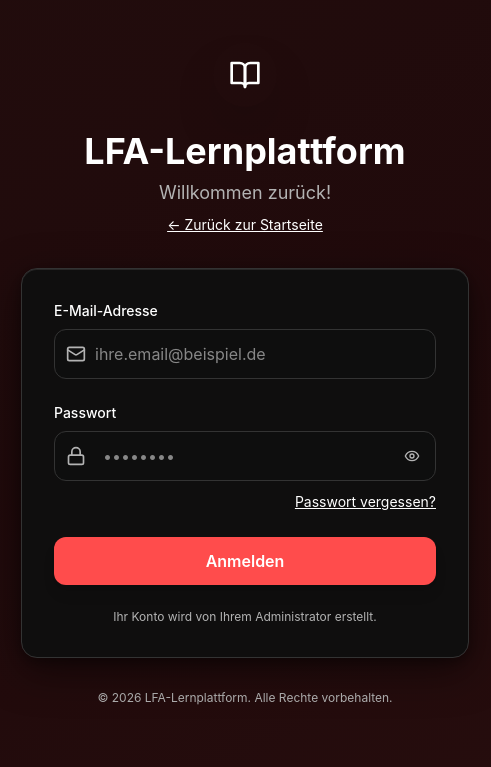
LoginForm when the sign in never answers › removes the message on the next attempt and can sign in again
Type "diag-niemand@example.invalid" into the field with id "email". click: point(245, 354)
box: x1=54 y1=328 x2=436 y2=378
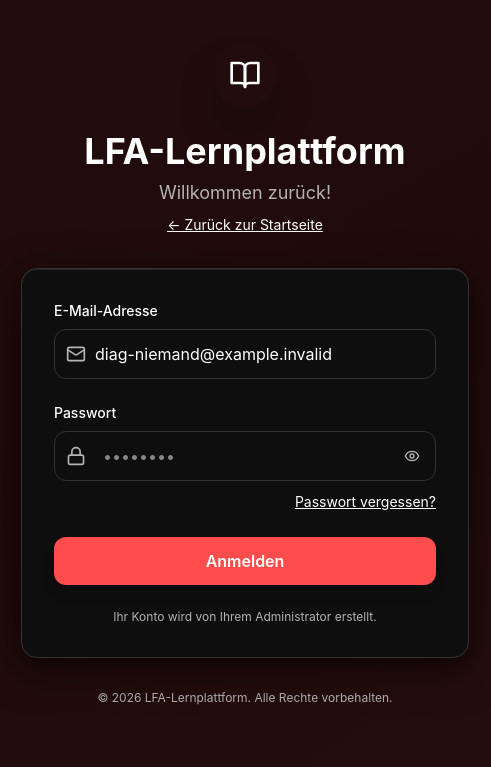
Type "geheim" into the password field labelled "Passwort". click: point(245, 456)
box: x1=54 y1=430 x2=436 y2=480
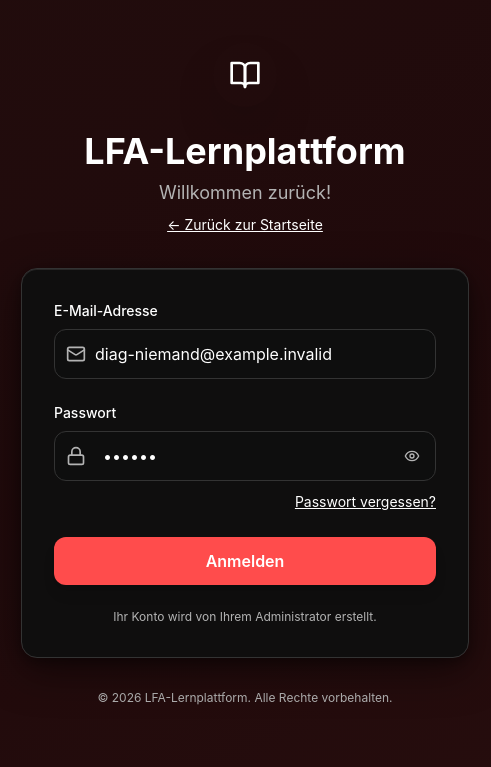
Click the button "Anmelden". click: point(245, 560)
box: x1=54 y1=536 x2=436 y2=584
Wait 22000 ms
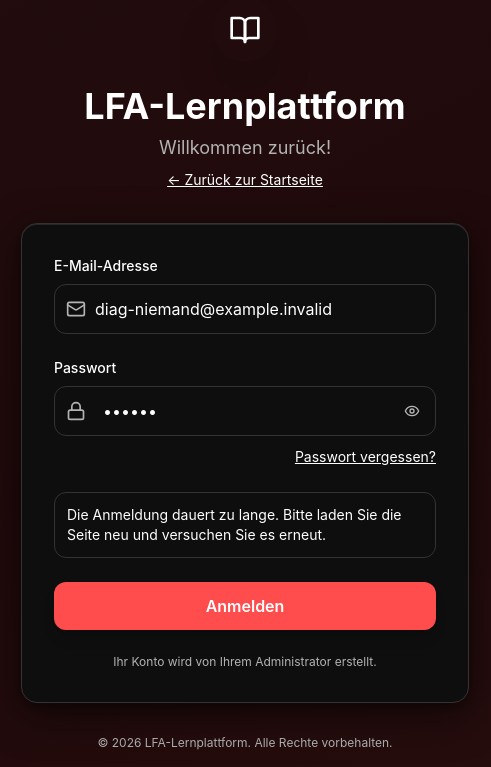
Expected: the text "Die Anmeldung dauert zu lange. Bitte laden Sie die Seite neu und versuchen Sie es erneut." is shown, x1=67 y1=506 x2=402 y2=542
Click the button "Anmelden". click: point(245, 606)
box: x1=54 y1=582 x2=436 y2=630
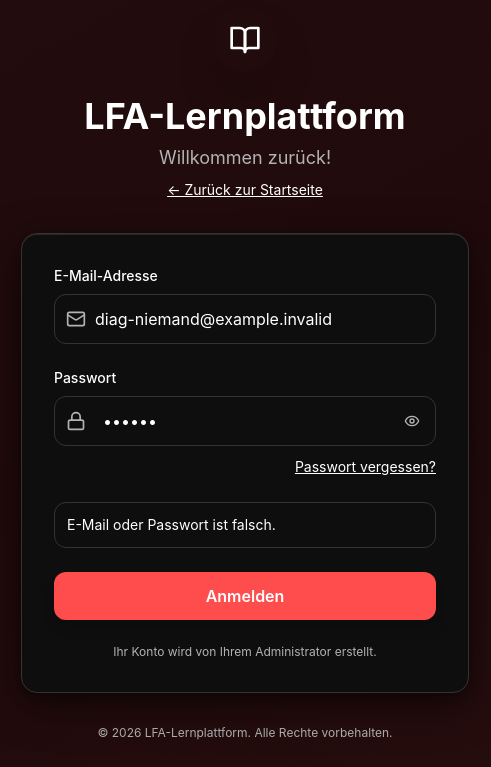
Expected: the button "Anmelden" is enabled, x1=54 y1=572 x2=436 y2=620
Expected: the text "Die Anmeldung dauert zu lange. Bitte laden Sie die Seite neu und versuchen Sie es erneut." is gone
Expected: the text "E-Mail oder Passwort ist falsch." is shown, x1=67 y1=516 x2=276 y2=532
